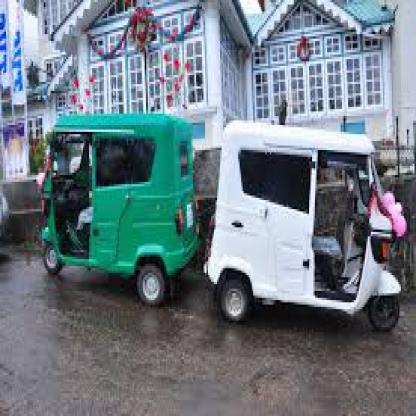tuk: (206, 107, 408, 332), (36, 111, 199, 307)
